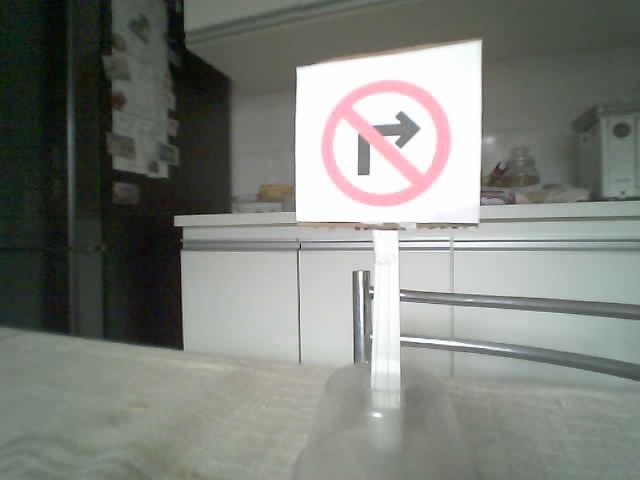R-4b_proibido-direita: (321, 78, 451, 207)
